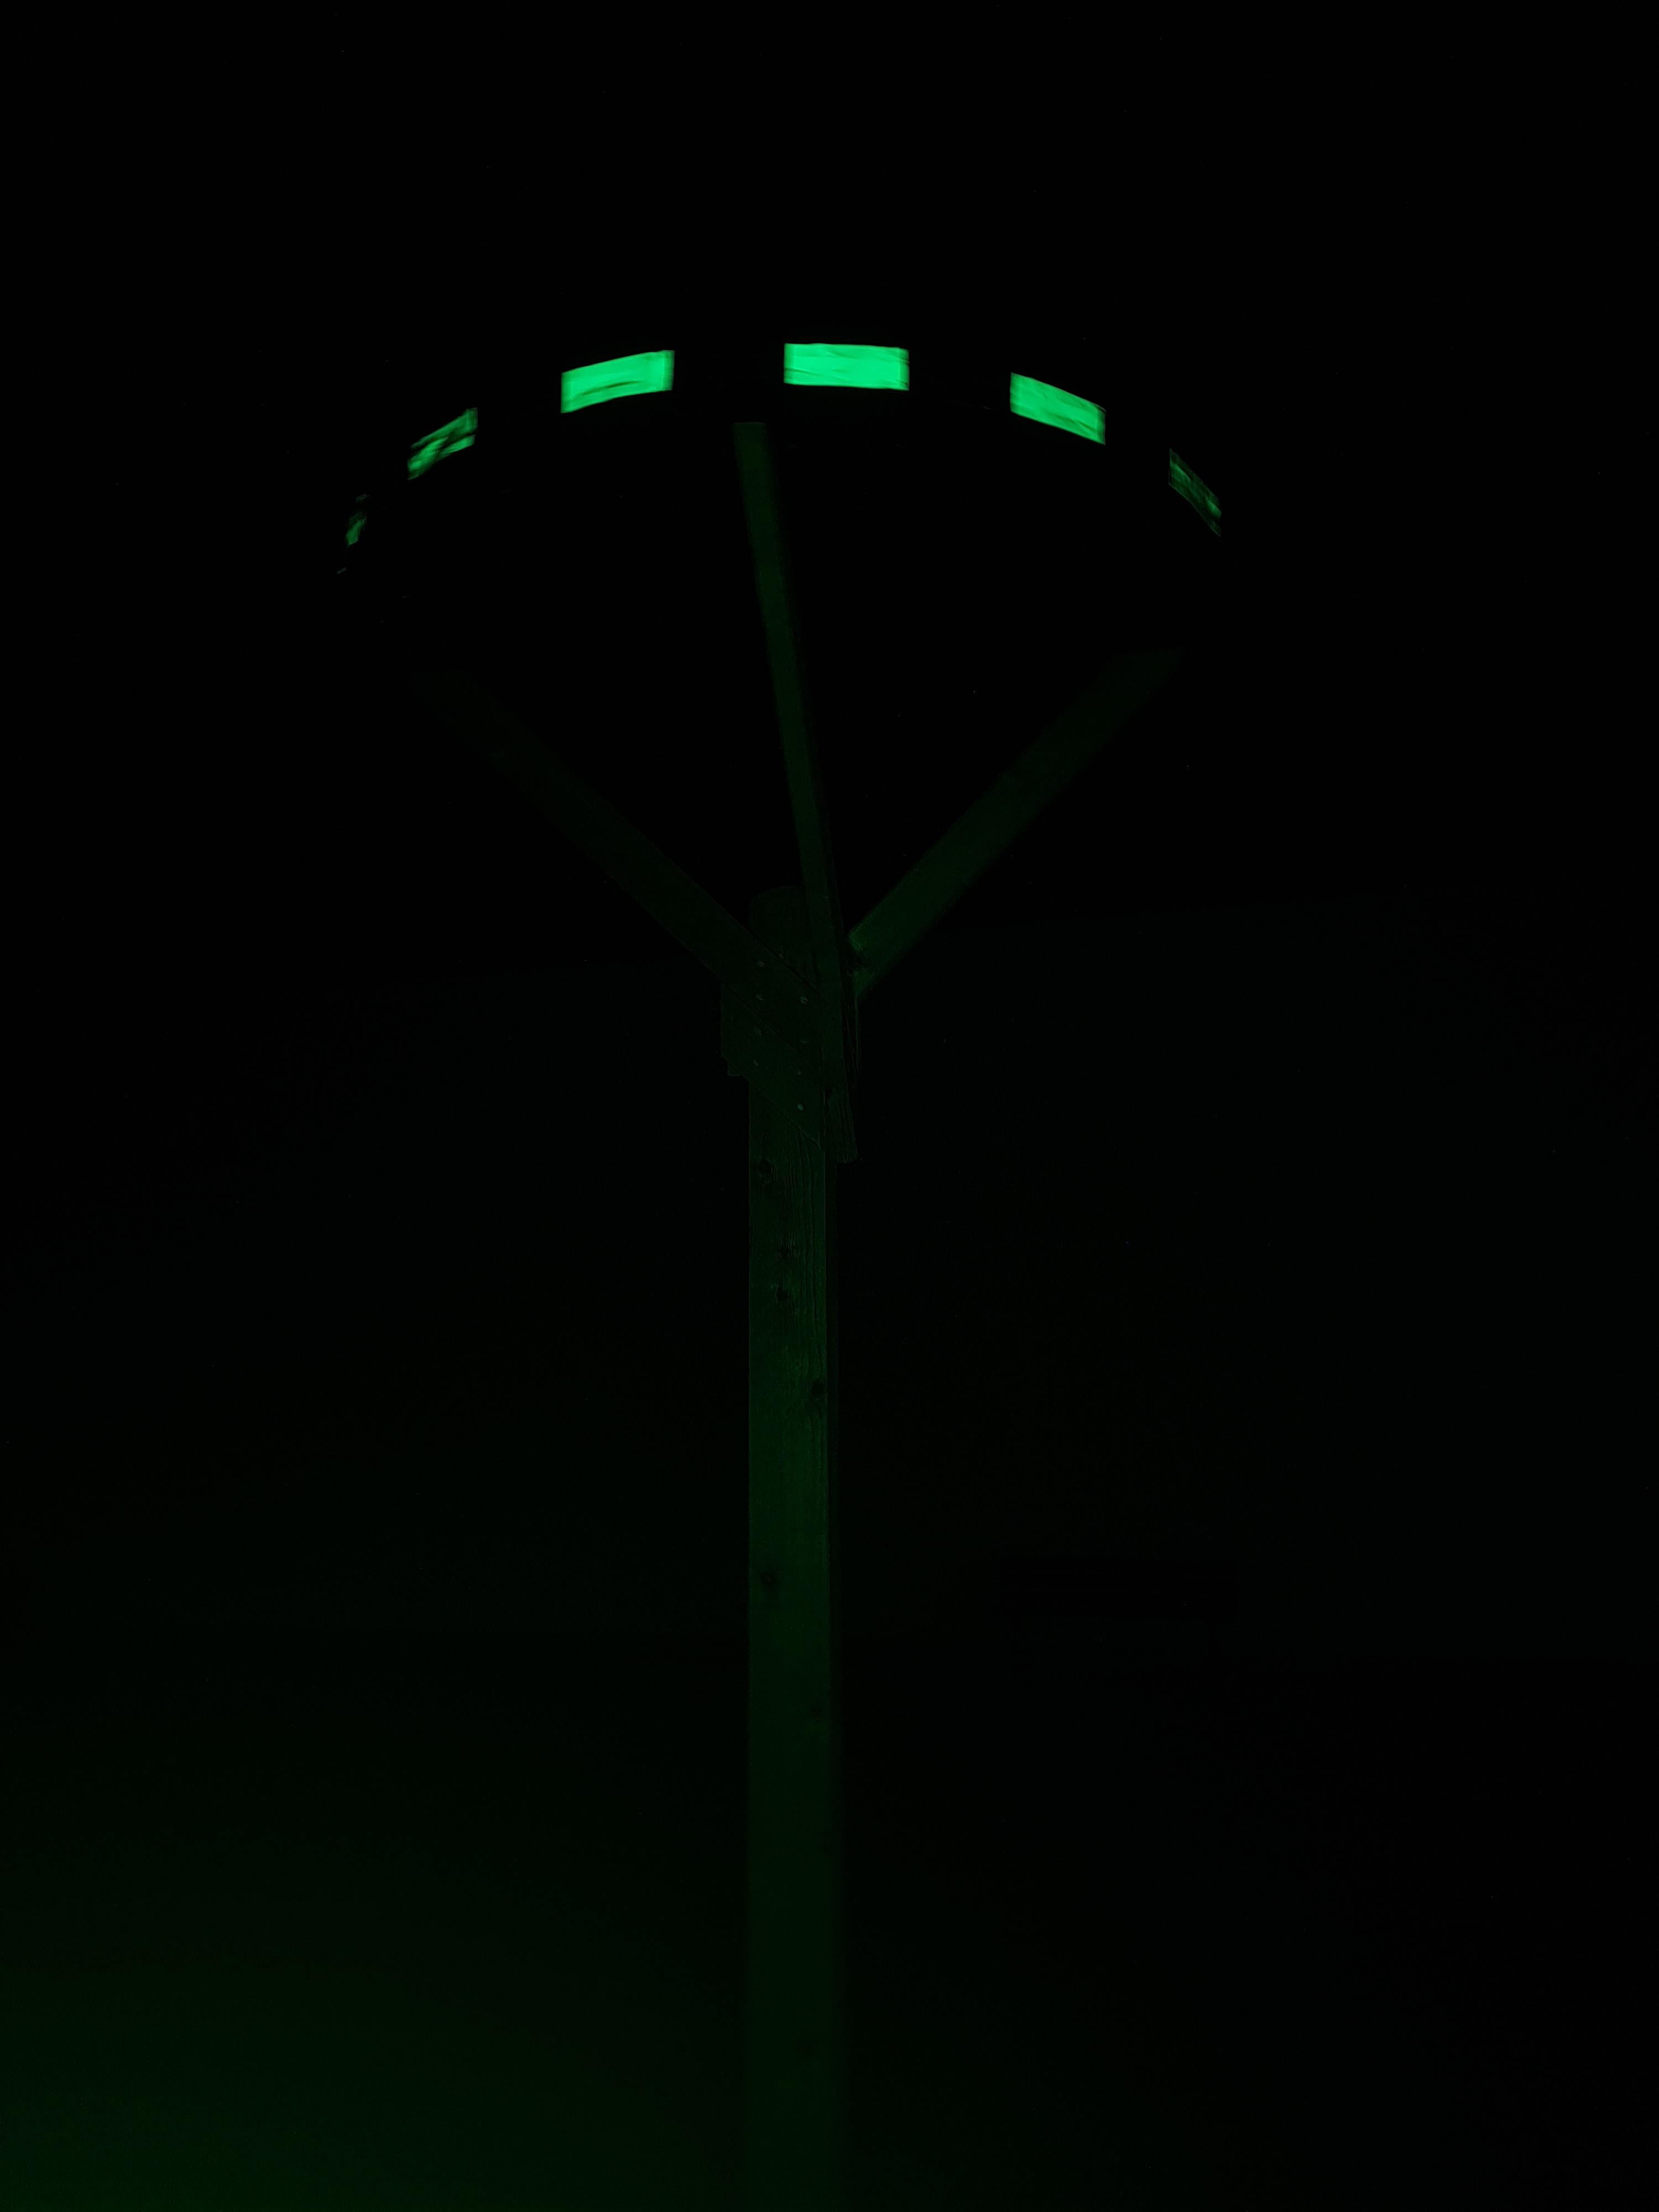hoop: (345, 343, 1225, 545)
